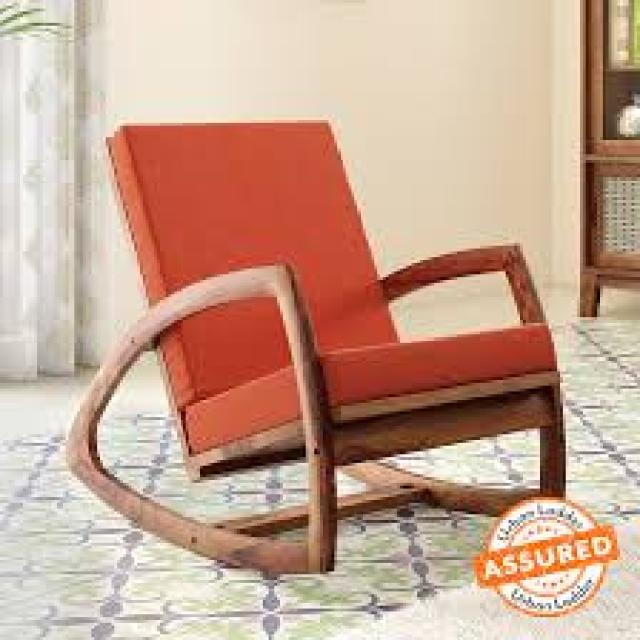chair: (52, 87, 610, 624)
